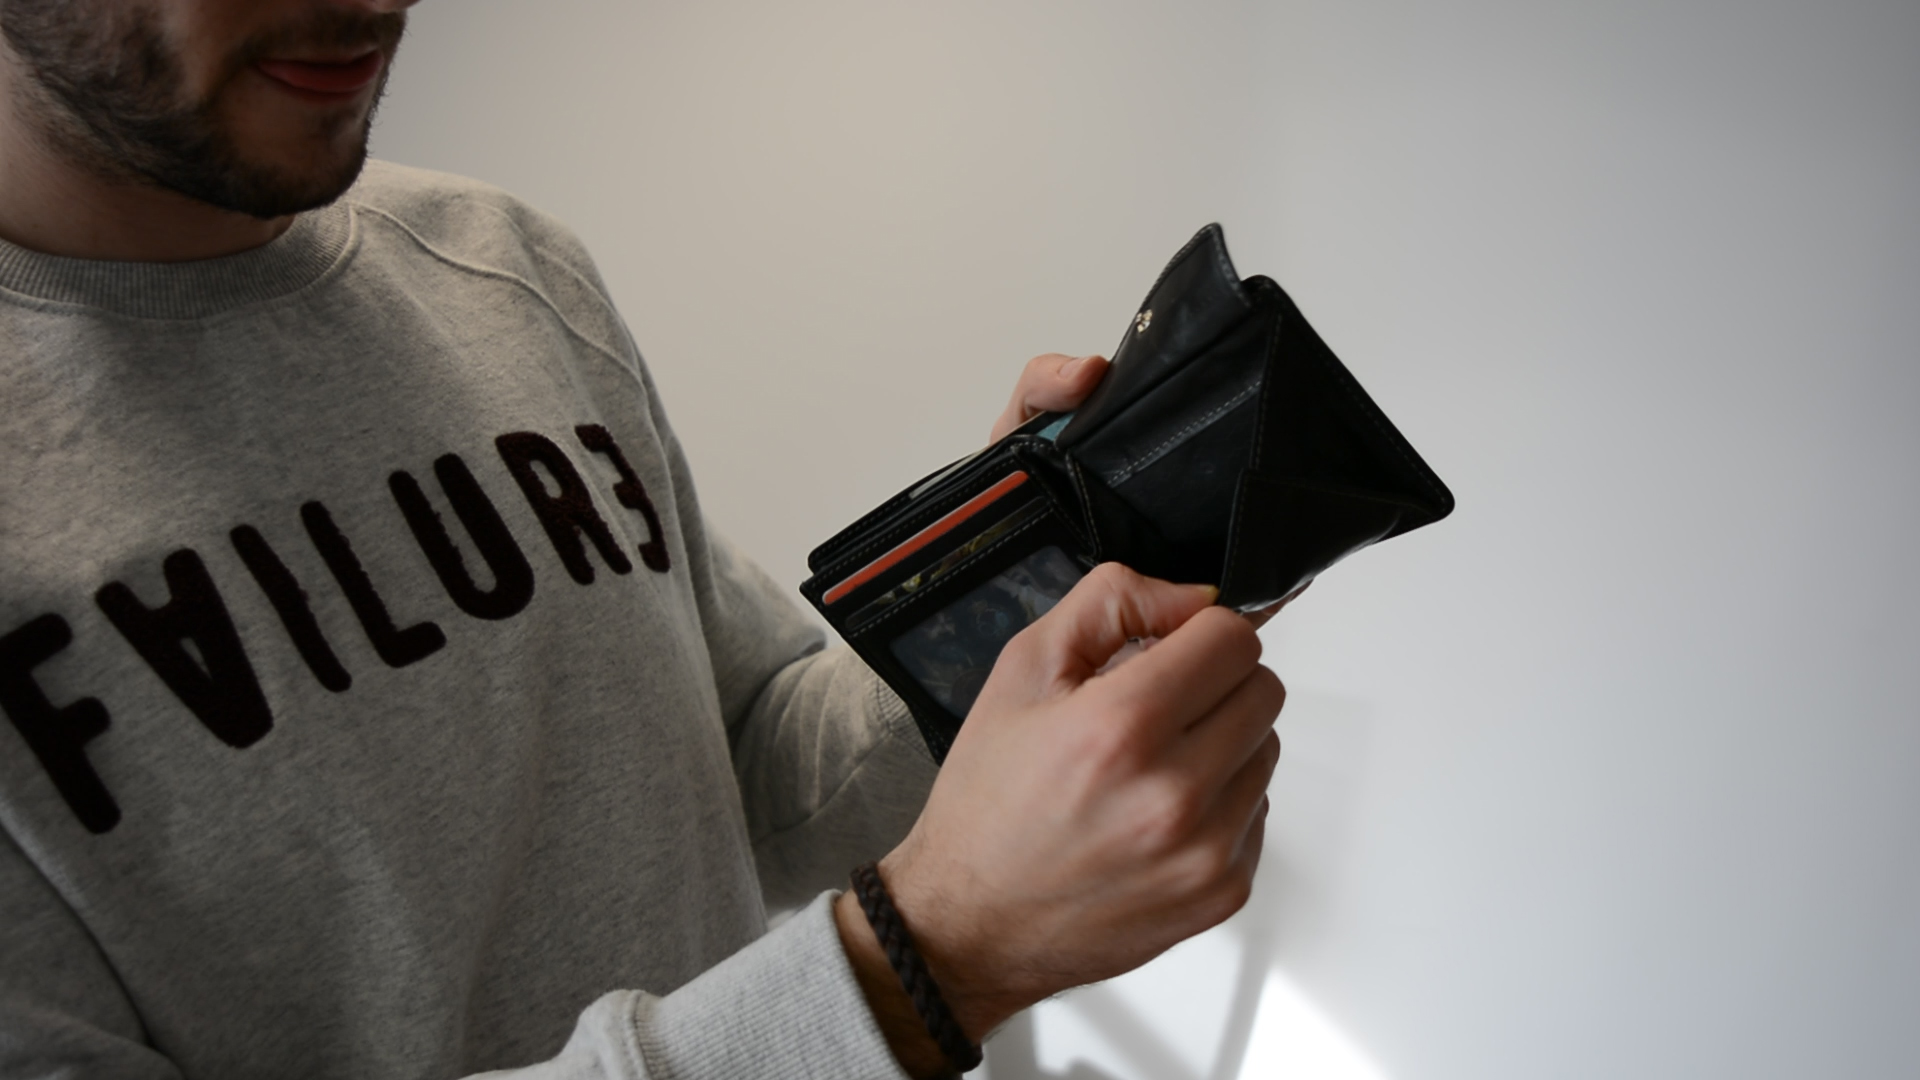monedero: (796, 219, 1458, 771)
